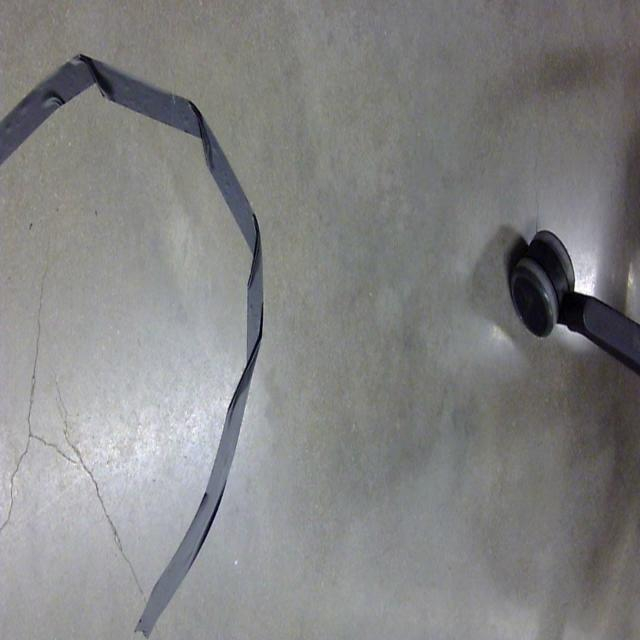tape: (0, 40, 271, 640)
